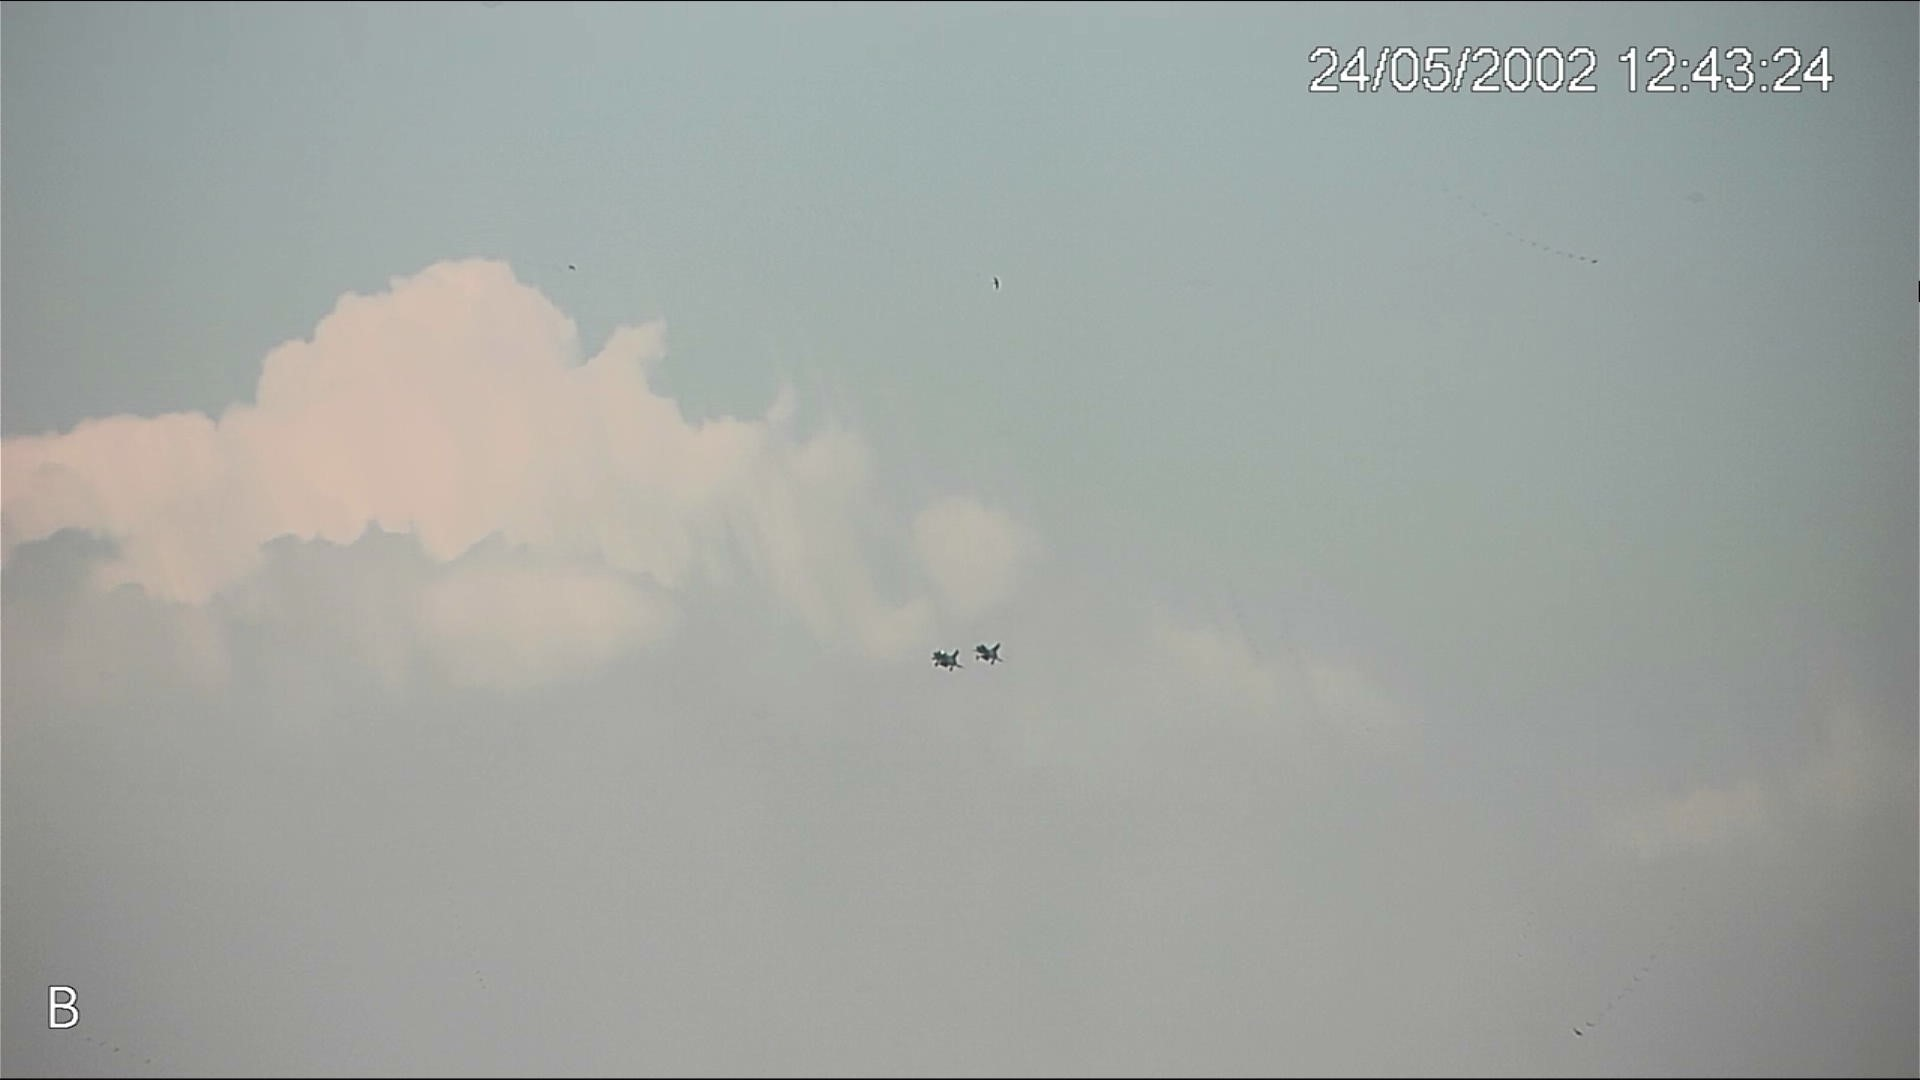SU_30: (971, 642, 1005, 667), (931, 649, 964, 673)
